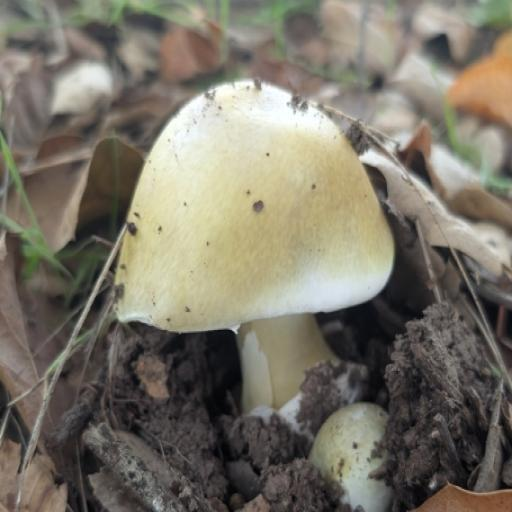mushroom: (56, 42, 446, 435)
